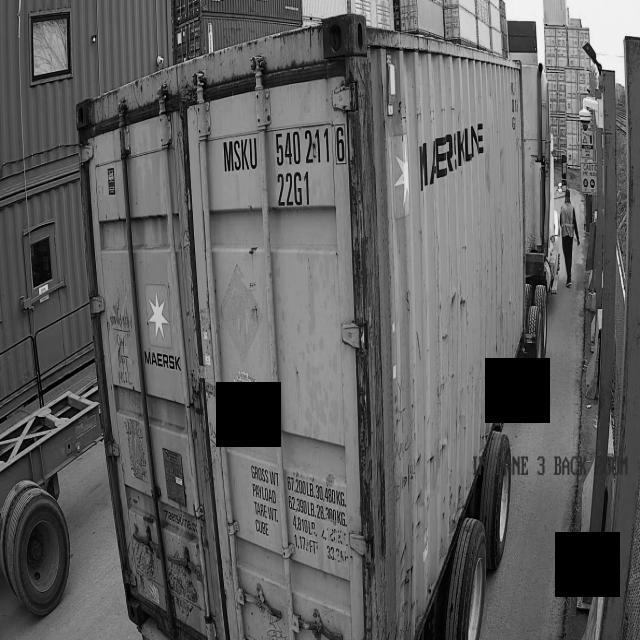container_company_logo: (416, 105, 489, 210), (131, 264, 190, 380)
container_number: (219, 120, 347, 216)
driver: (559, 190, 579, 287)
other_container_info: (241, 454, 353, 581)
truck_trailer: (0, 386, 101, 615)
truck_with_container: (76, 15, 559, 640)
